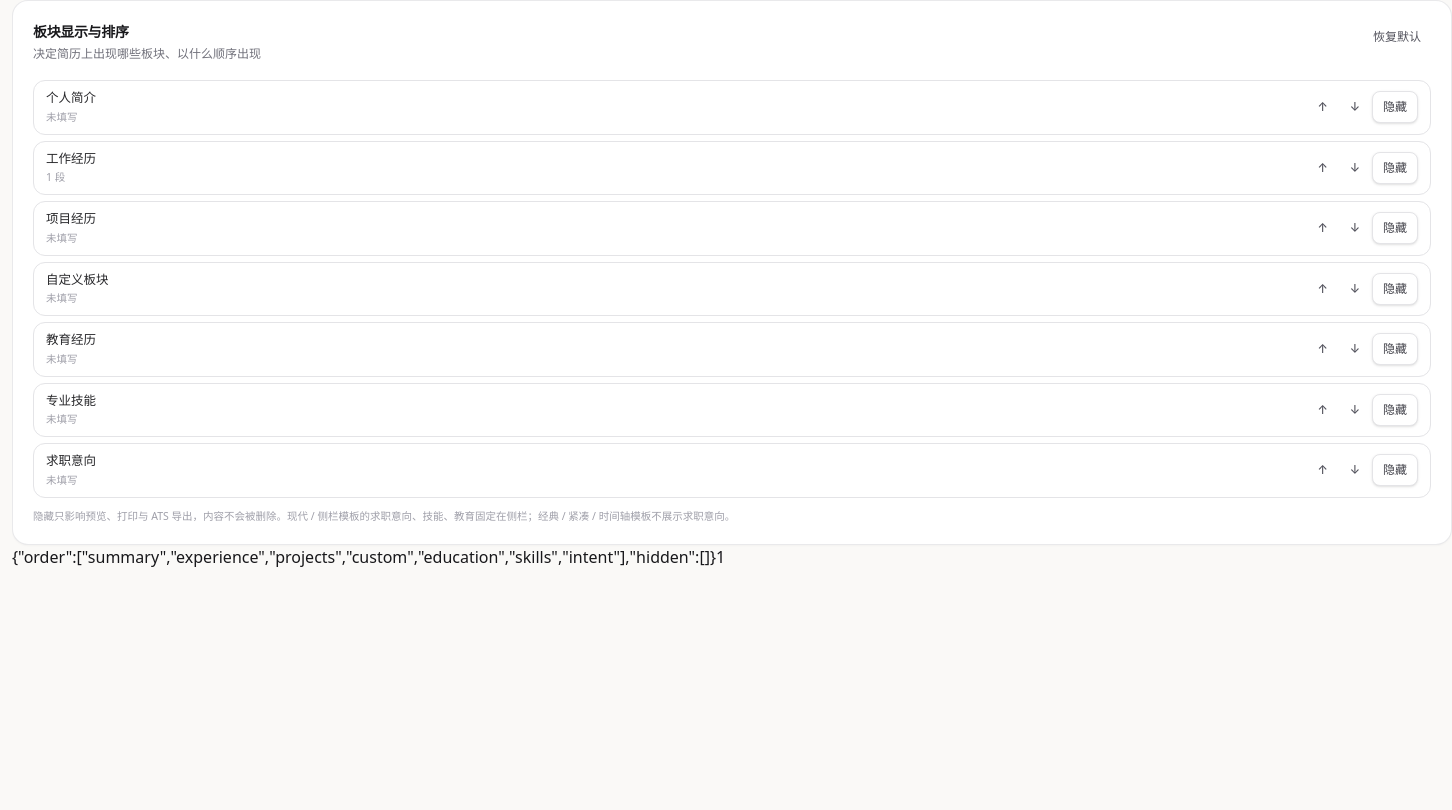
it: SectionLayoutEditor › 隐藏板块只改变布局，不删除内容
Step 1. Click the button with aria-label "隐藏工作经历" → (1395,168), box x1=1372 y1=152 x2=1418 y2=184
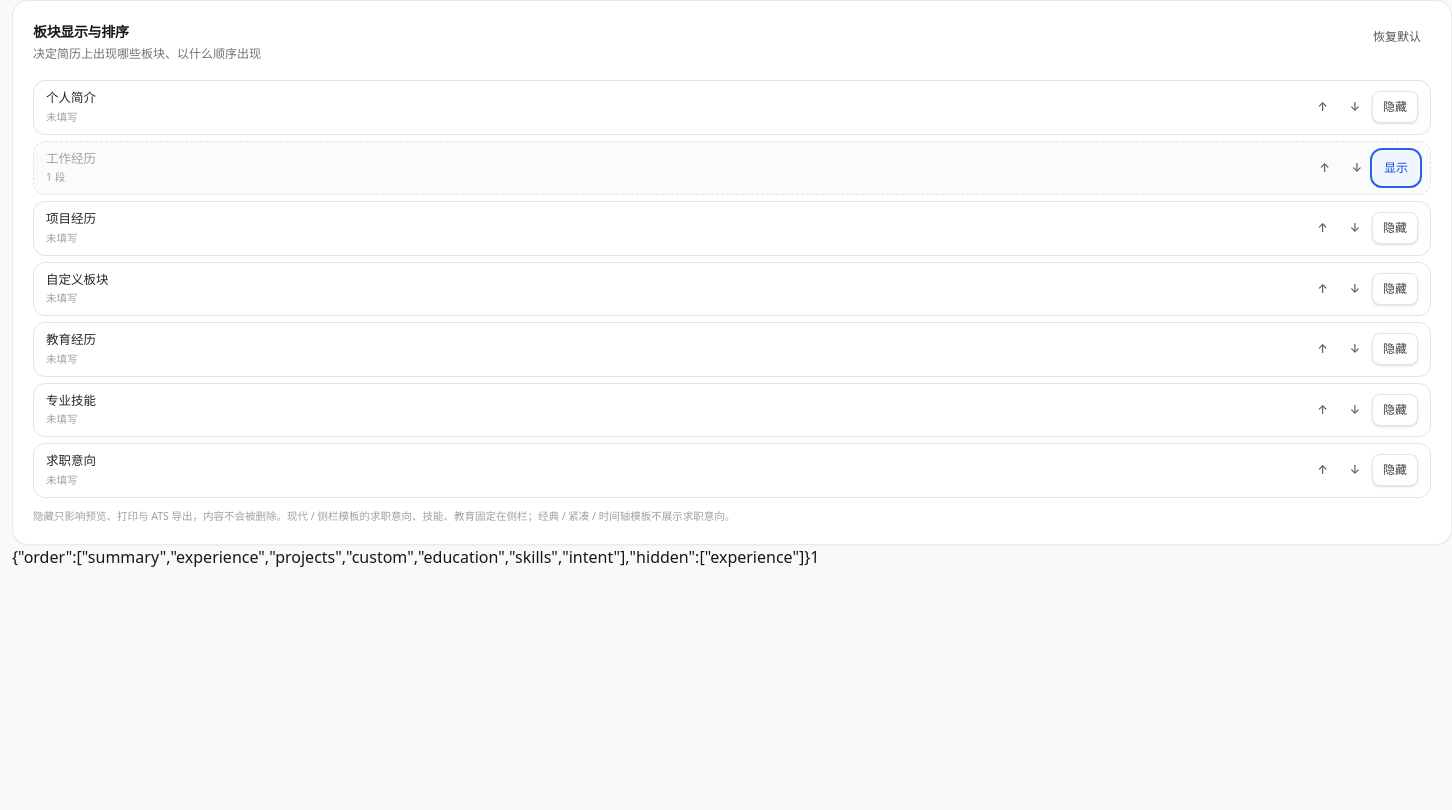
Expected: the text with test id "experience-count" reads "1", x1=810 y1=546 x2=820 y2=568
Result: the button with aria-label "显示工作经历" is shown at x1=1374 y1=152 x2=1418 y2=184
